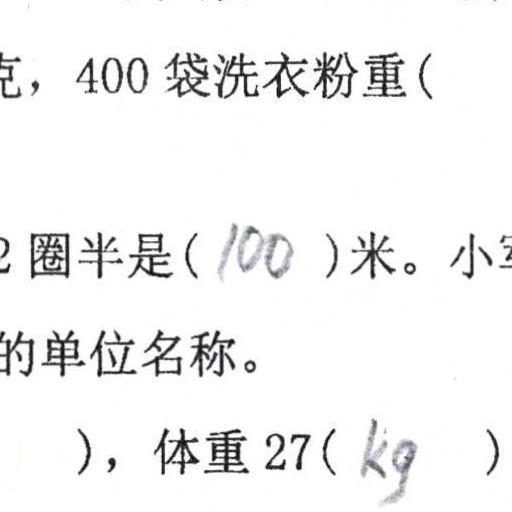ans: (354, 412, 418, 505), (214, 214, 294, 282)
